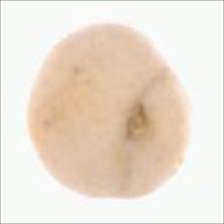L3: (124, 103, 147, 144)
L4: (27, 22, 189, 198)
